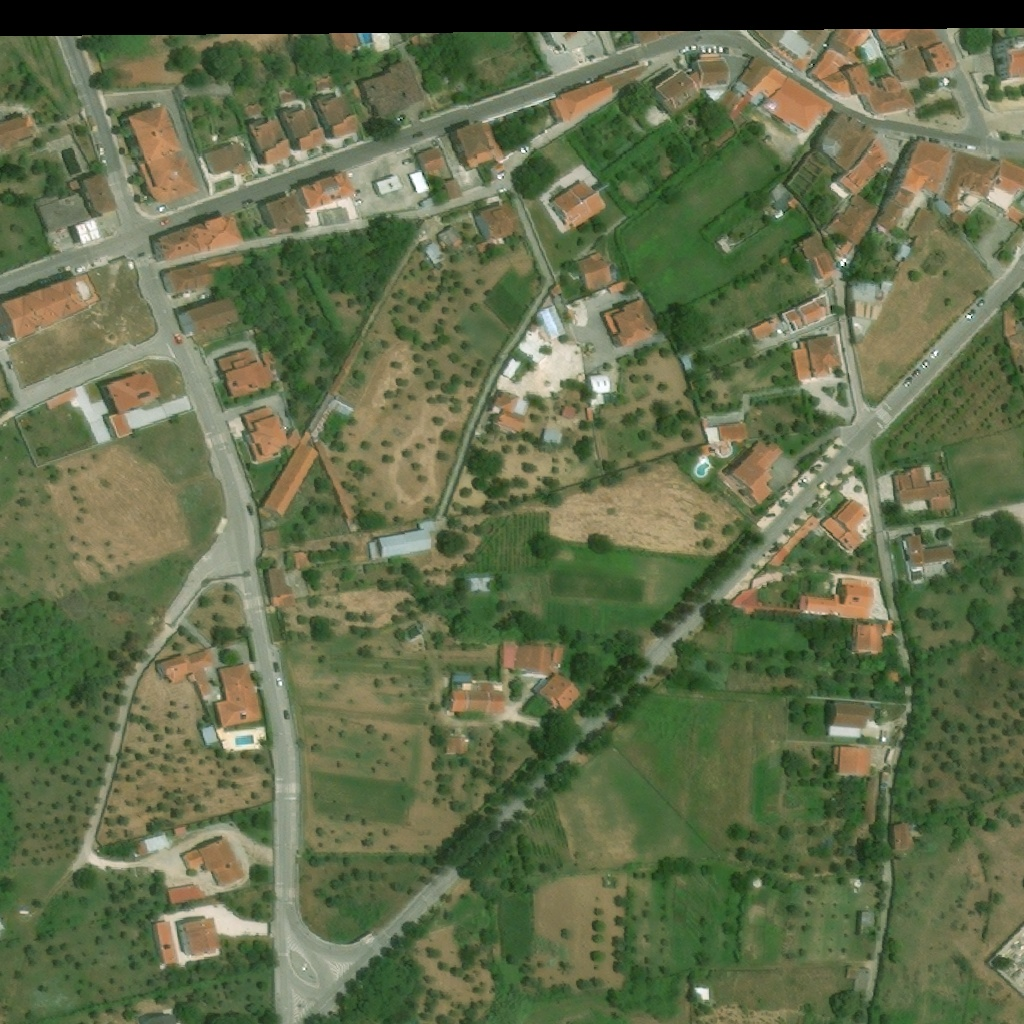0 no-damage: (450, 641, 584, 716), (240, 405, 320, 517), (738, 54, 836, 140), (805, 49, 917, 118), (126, 102, 201, 205), (0, 271, 102, 341), (798, 195, 881, 279), (876, 140, 952, 231), (808, 111, 890, 195), (33, 169, 120, 245), (264, 169, 360, 230), (876, 22, 958, 85), (653, 54, 732, 118), (149, 211, 245, 263), (747, 292, 829, 352), (248, 105, 325, 165), (355, 61, 425, 124), (99, 371, 161, 439), (946, 150, 1023, 204), (446, 122, 507, 185), (727, 440, 784, 506), (158, 252, 245, 295), (845, 277, 897, 345), (156, 647, 221, 701), (212, 662, 263, 727), (799, 578, 876, 621), (214, 348, 277, 400), (180, 836, 245, 886), (409, 146, 464, 203), (600, 298, 660, 349), (550, 79, 614, 126), (549, 180, 608, 228), (174, 295, 241, 337), (903, 534, 956, 586), (820, 498, 870, 553), (892, 468, 953, 512), (368, 520, 436, 559), (792, 334, 843, 384), (778, 22, 843, 60), (830, 22, 883, 64), (312, 93, 358, 140), (307, 393, 355, 438), (567, 253, 619, 294), (541, 24, 592, 64), (202, 140, 254, 176), (175, 917, 221, 956), (473, 203, 519, 241), (825, 700, 868, 739), (604, 66, 649, 100), (492, 391, 529, 432), (0, 113, 40, 150), (906, 207, 940, 249), (626, 24, 692, 45), (782, 518, 819, 555), (832, 746, 872, 778), (264, 567, 295, 608), (586, 369, 619, 406), (948, 192, 981, 228), (151, 922, 177, 965), (749, 22, 794, 46), (852, 623, 885, 655), (770, 182, 801, 216), (537, 304, 566, 339), (705, 422, 749, 444), (135, 833, 171, 857), (165, 884, 202, 906), (372, 174, 403, 196), (716, 91, 742, 117), (421, 239, 445, 266), (437, 226, 463, 250), (566, 299, 589, 326), (890, 823, 912, 851), (734, 585, 758, 609), (847, 968, 870, 992), (466, 575, 494, 594), (607, 277, 635, 296), (501, 356, 522, 380), (856, 910, 875, 936), (540, 427, 563, 446), (700, 443, 729, 458), (260, 529, 282, 548), (443, 737, 466, 755), (58, 387, 78, 406), (200, 725, 219, 744), (559, 403, 578, 420), (894, 244, 911, 261), (887, 665, 902, 684), (245, 102, 262, 118), (294, 551, 309, 569), (316, 78, 332, 93), (693, 987, 711, 1000), (280, 90, 296, 104), (548, 281, 562, 295), (172, 826, 186, 836)
4 un-classified: (320, 25, 391, 60), (992, 36, 1023, 83), (516, 329, 546, 356), (398, 25, 436, 43), (1005, 205, 1023, 228), (288, 26, 302, 39), (306, 27, 321, 34)
